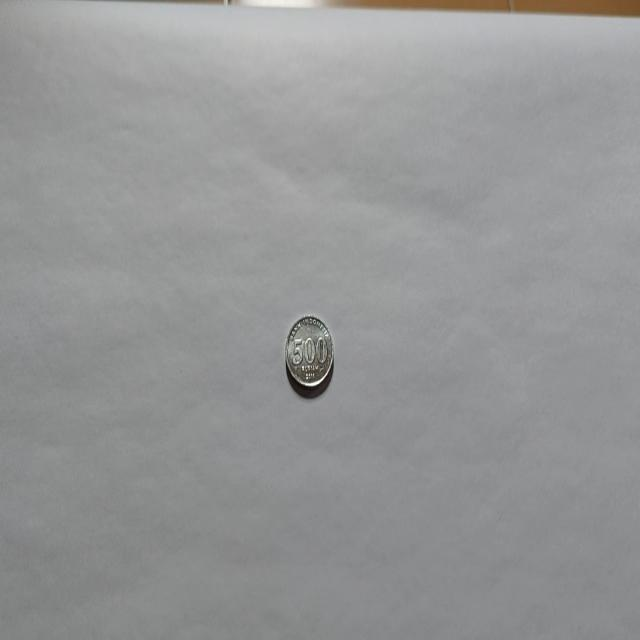lima ratus rupiah: (284, 313, 334, 397)
